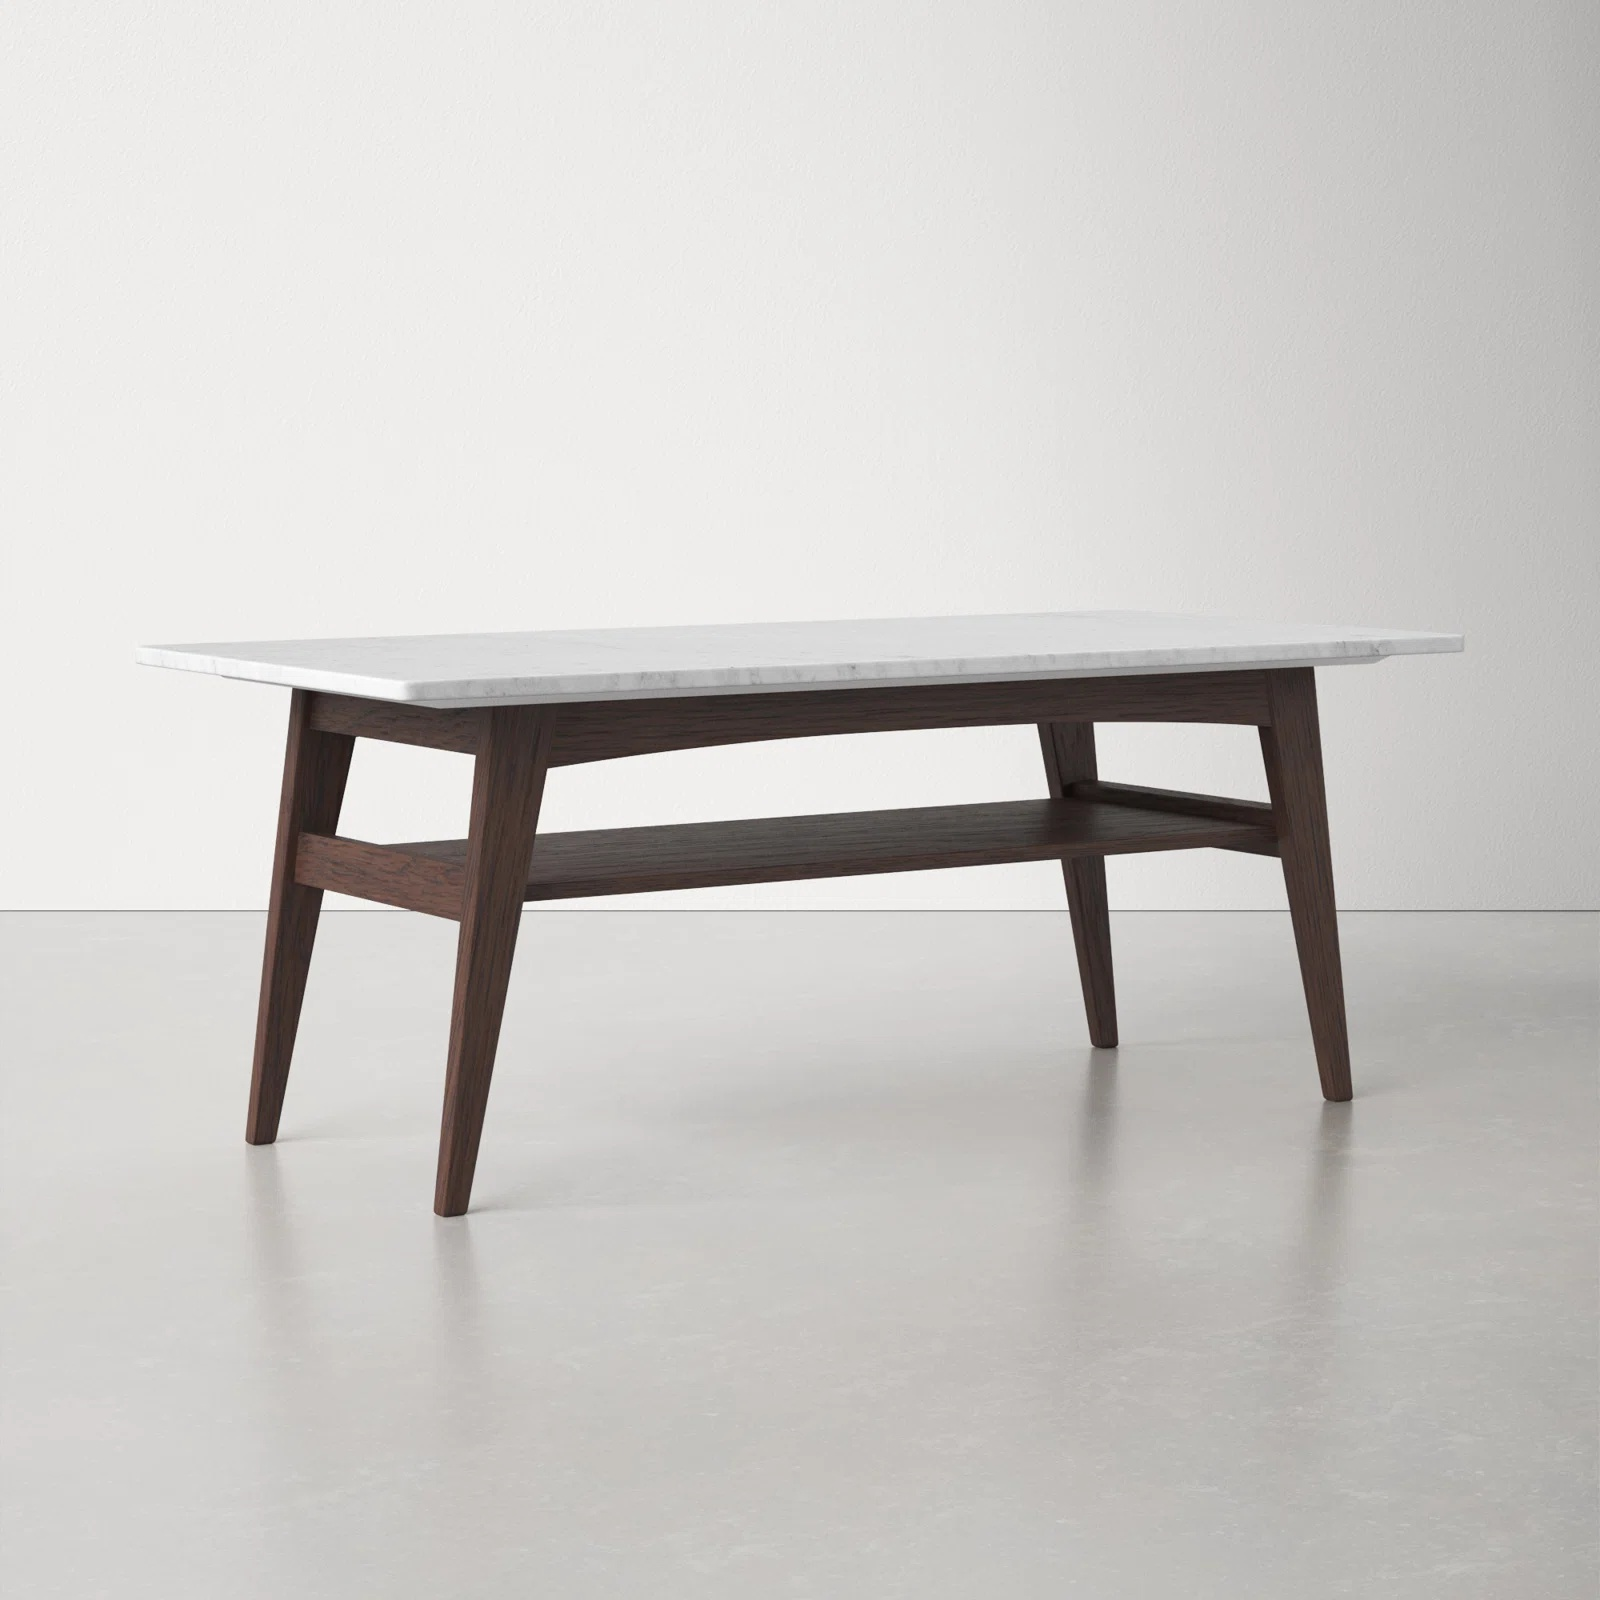obstacle: (139, 612, 1459, 1215)
